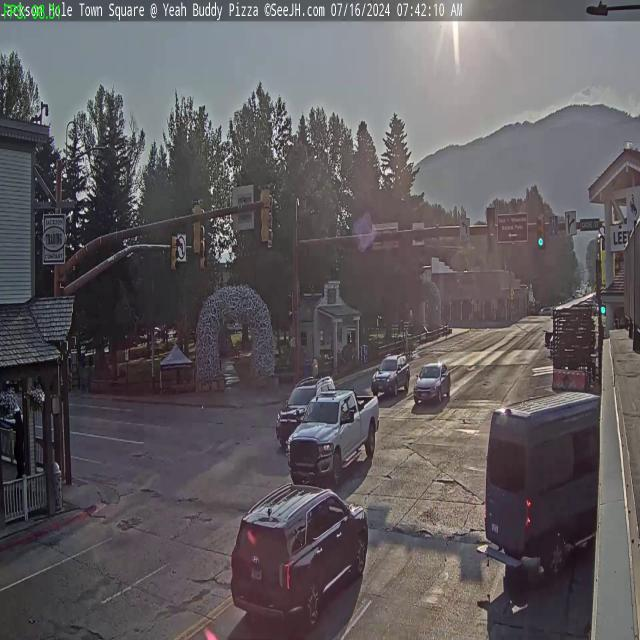pickup: (286, 393, 381, 486)
suv: (224, 478, 371, 640), (277, 372, 334, 442), (414, 359, 451, 406), (372, 351, 410, 396)
traffic light: (190, 199, 203, 256), (260, 184, 272, 244), (486, 207, 496, 256), (170, 235, 178, 272), (537, 215, 545, 248)
van: (477, 386, 608, 576)
